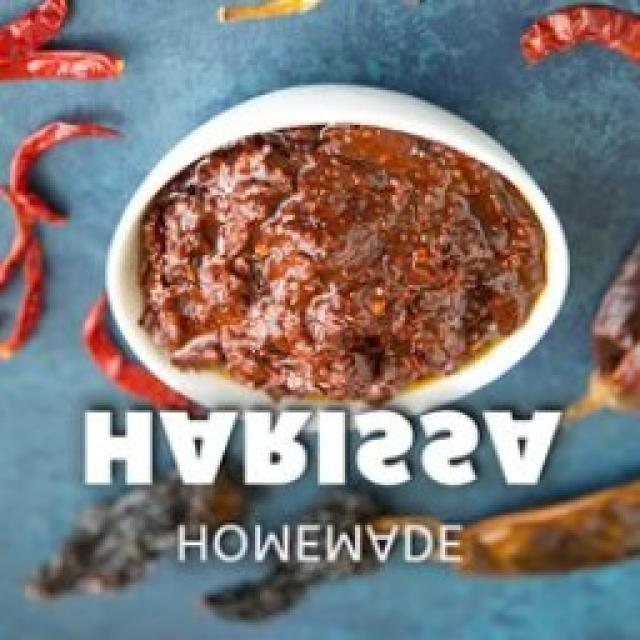Harissa: (105, 82, 568, 410)
